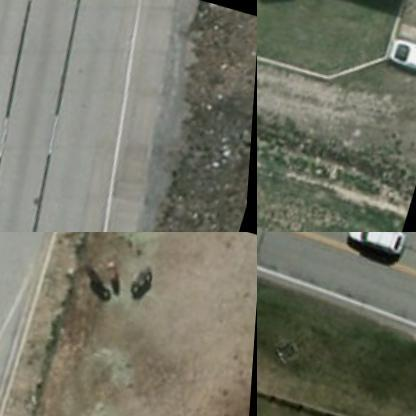car: (347, 232, 410, 251), (390, 33, 415, 75)
